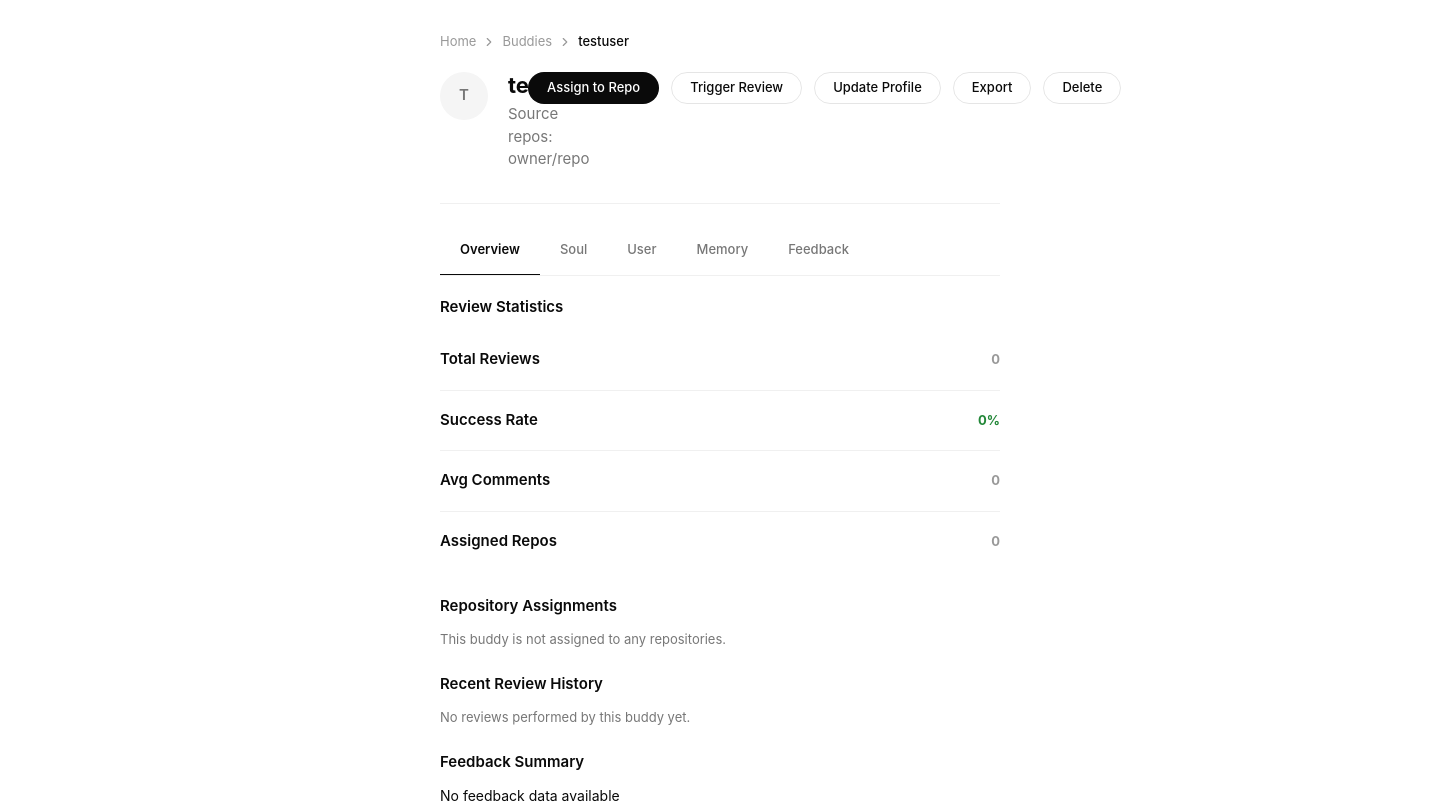
it: BuddyDetailPage › shows delete confirmation dialog when delete button clicked
This screenshot has width=1440, height=810.
Click the button "Delete" at (1082, 88), box [1043, 72, 1121, 104]
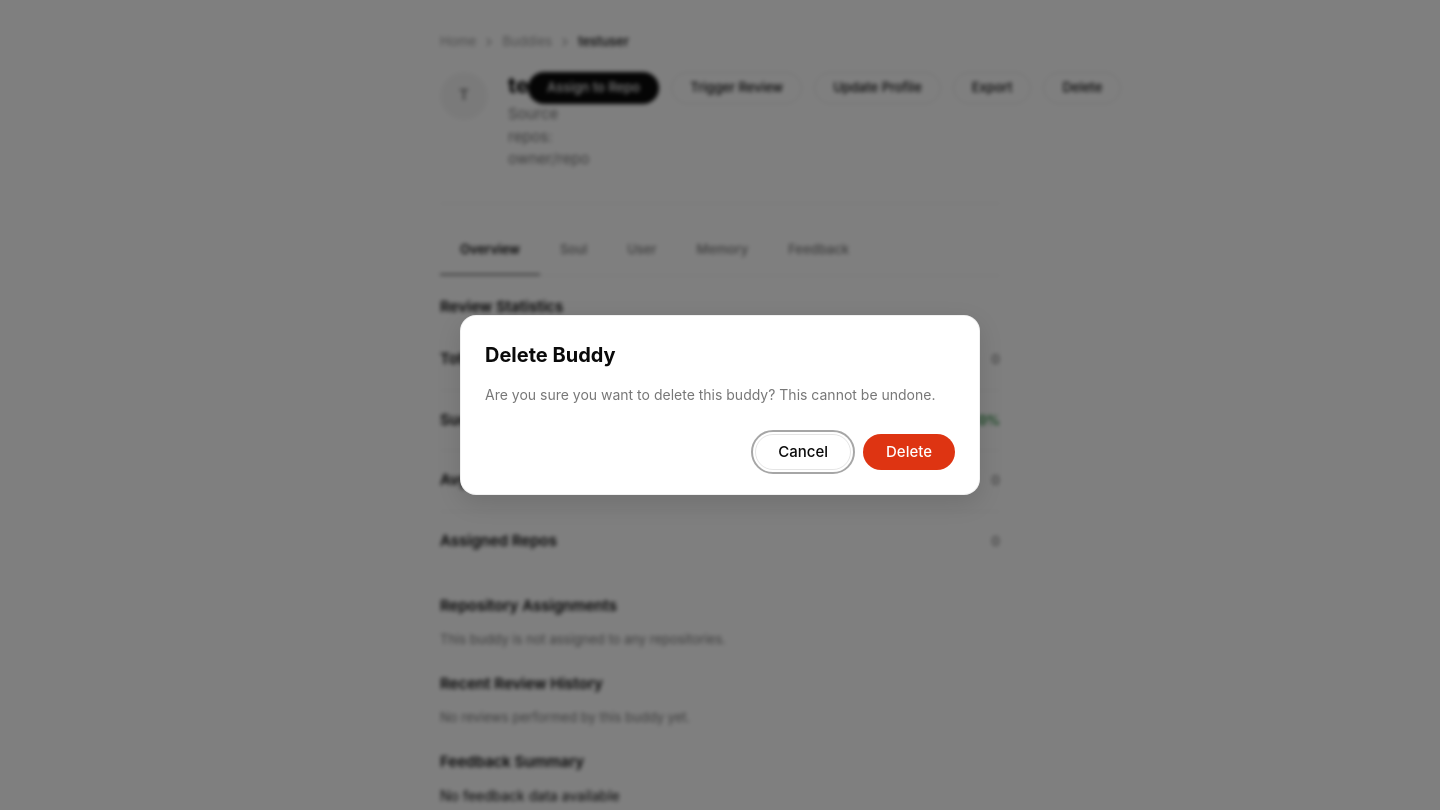
Expected: the text "Delete Buddy" is shown, [485, 343, 616, 367]
Expected: the text "Are you sure you want to delete this buddy? This cannot be undone." is shown, [485, 386, 936, 403]
